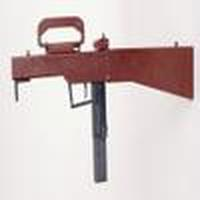gun: (4, 14, 199, 131)
